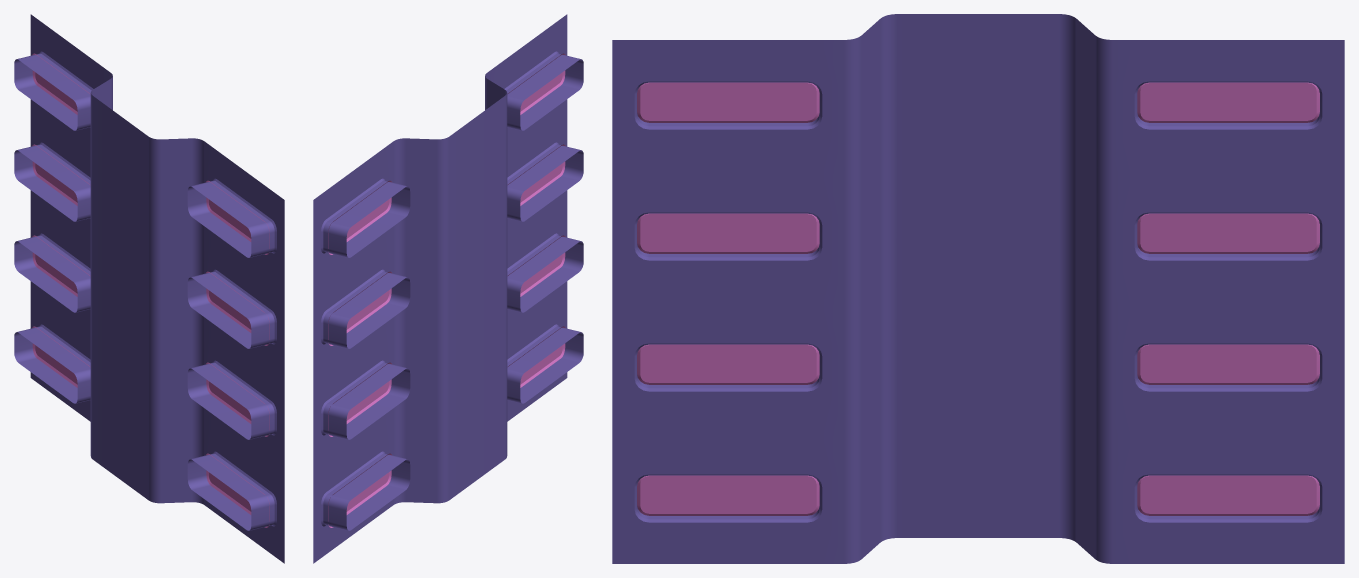
File: wall_01.fbx
3 renders of one model, left to right at view 1: azimuth 30°, elevation 25°; view 2: azimuth 150°, elevation 25°; view 3: azimuth 270°, elevation 25°, orthographic. The views are drawn at different scales.
Visible parts, largest first — view 1: wall_01; view 2: wall_01; view 3: wall_01.
Part boxes in pixels (x1=…): wall_01: x1=14, y1=14, x2=284, y2=563; wall_01: x1=313, y1=14, x2=583, y2=563; wall_01: x1=612, y1=14, x2=1344, y2=563.
Bounding box in the file's own units: 0.3832 × 3.6 × 4.56.
